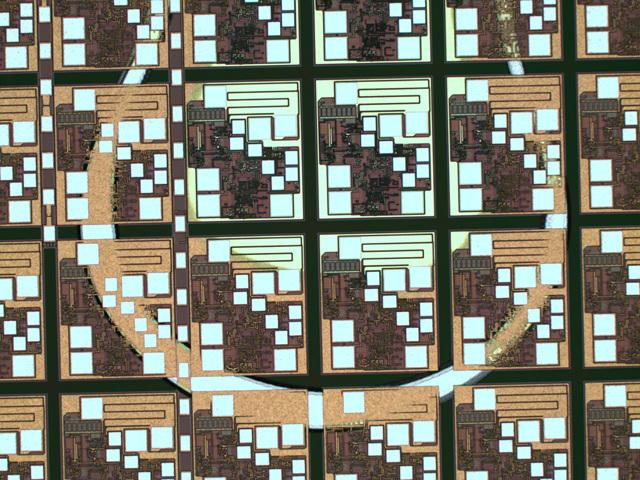COATING BAD: (76, 1, 569, 437)
